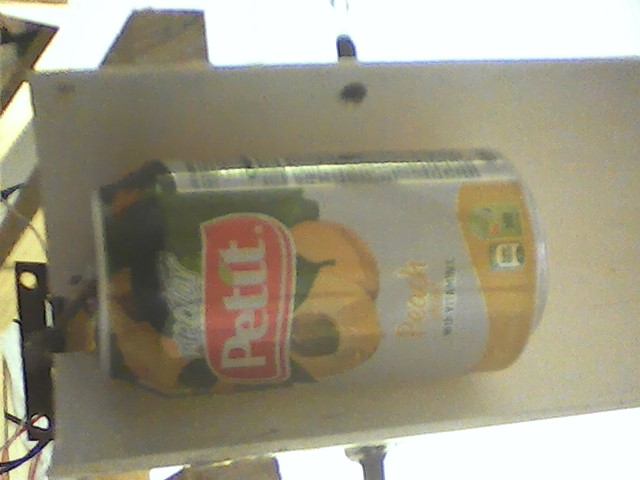lata: (88, 146, 556, 401)
